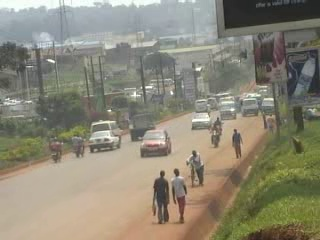Car: (139, 127, 172, 158), (88, 131, 124, 152), (190, 110, 211, 130)
Motorcycle: (48, 137, 63, 164), (71, 133, 86, 160), (208, 123, 222, 148), (213, 117, 223, 135)
